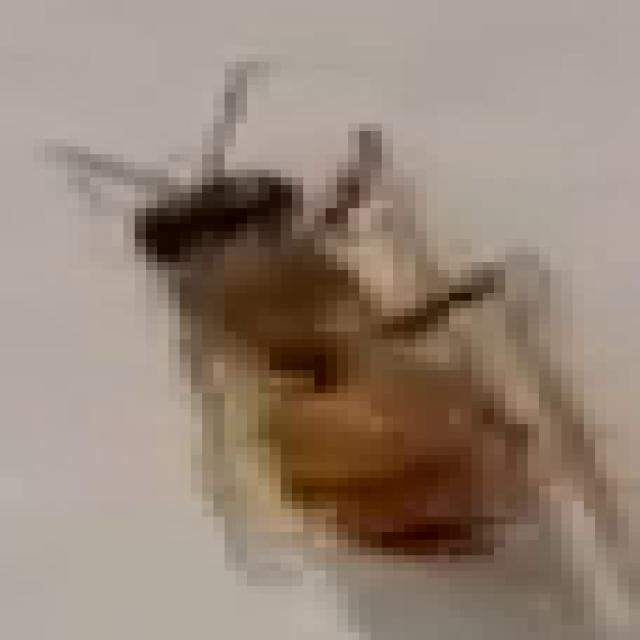honeybee: (92, 92, 583, 599)
